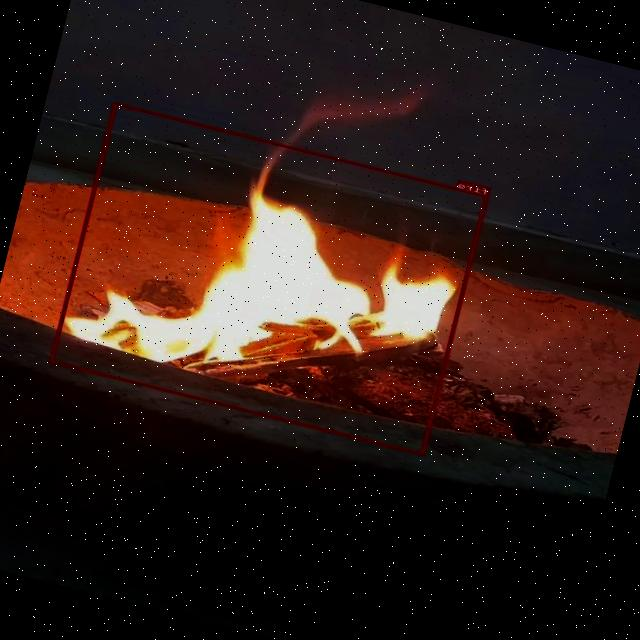fire: (51, 102, 488, 455)
